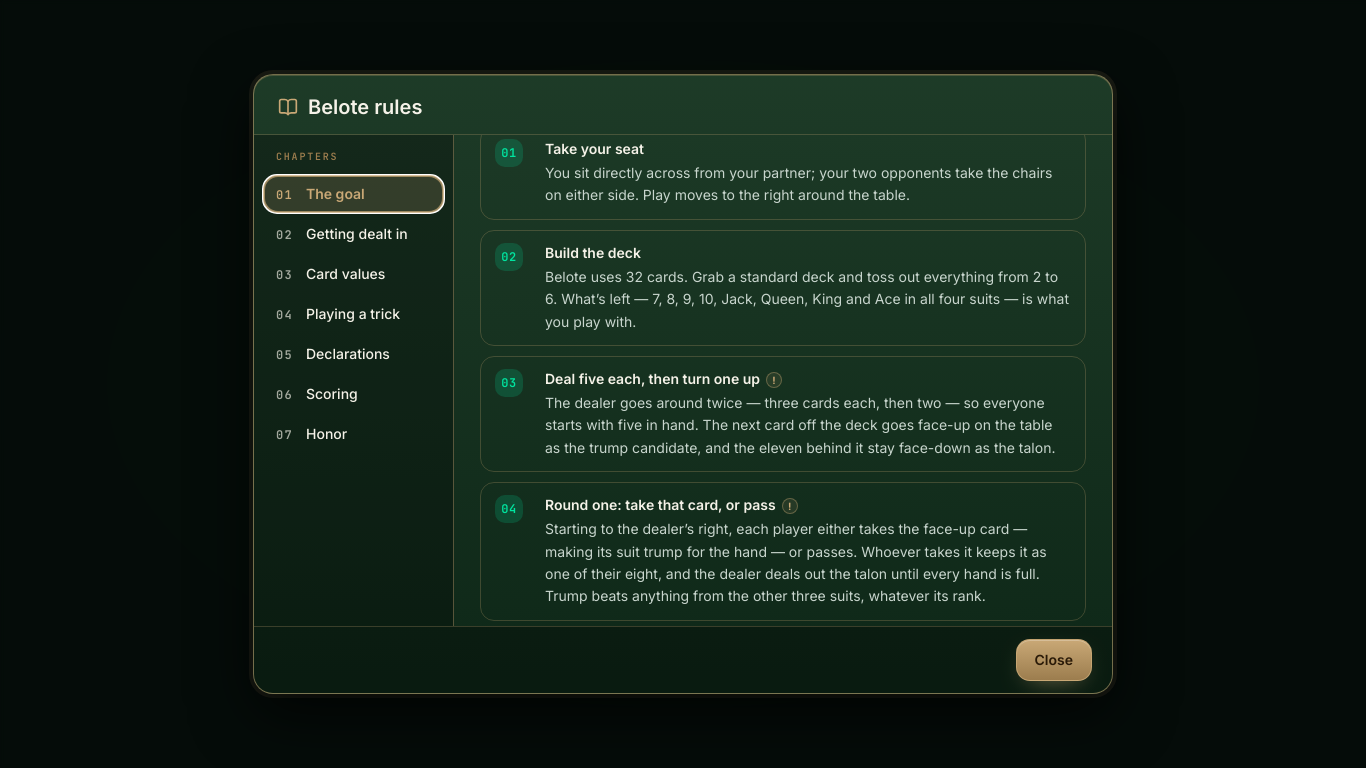
RulesDialog (in-game) › carries the difference marker into the dark theme
This screenshot has width=1366, height=768.
(page scrolled)
Hover over the button with test id "rules-diff-marker".
mouse_move(774, 380)  # box [766,372,782,388]
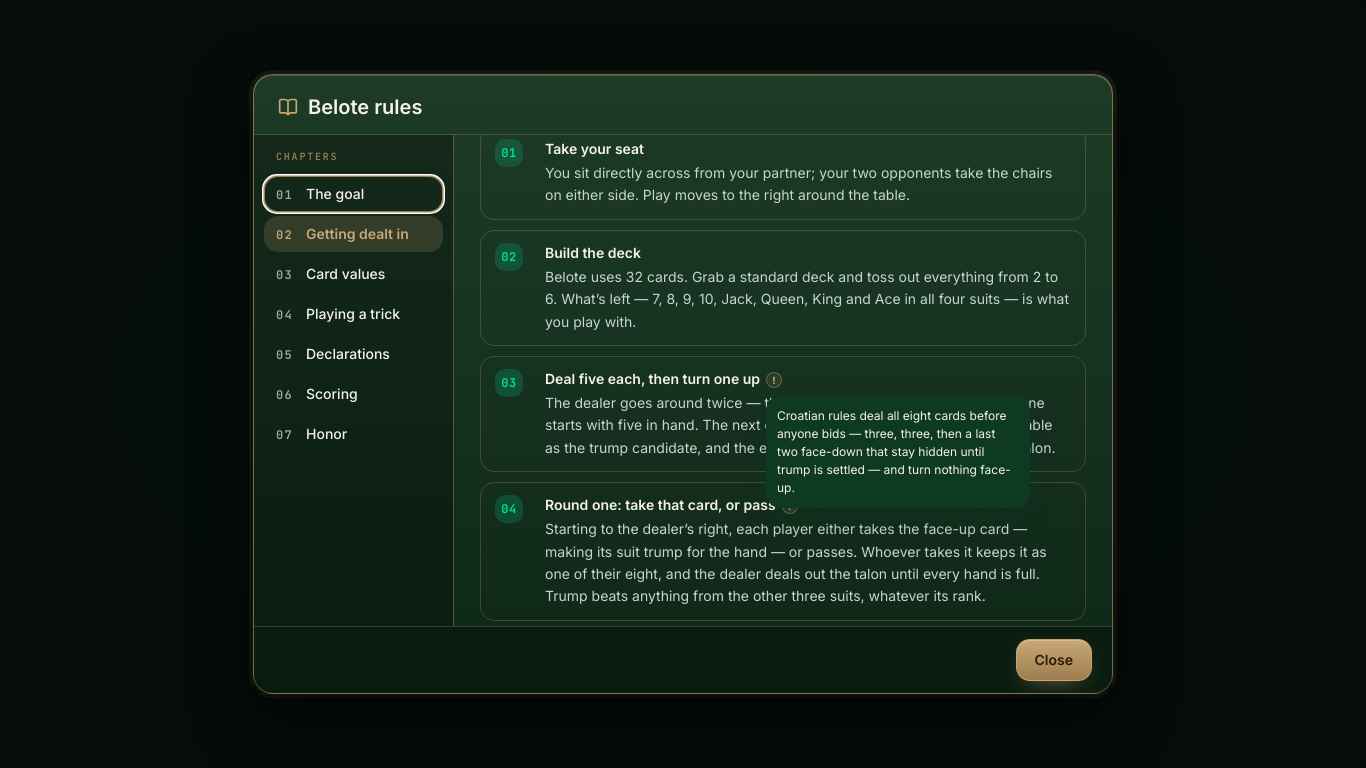
Now the text "Croatian rules deal all eight cards before anyone bids" is shown, box [777,408,1011,495]
